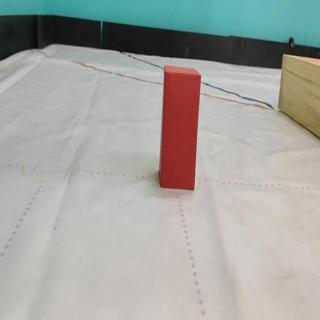redbox: (160, 65, 200, 190)
